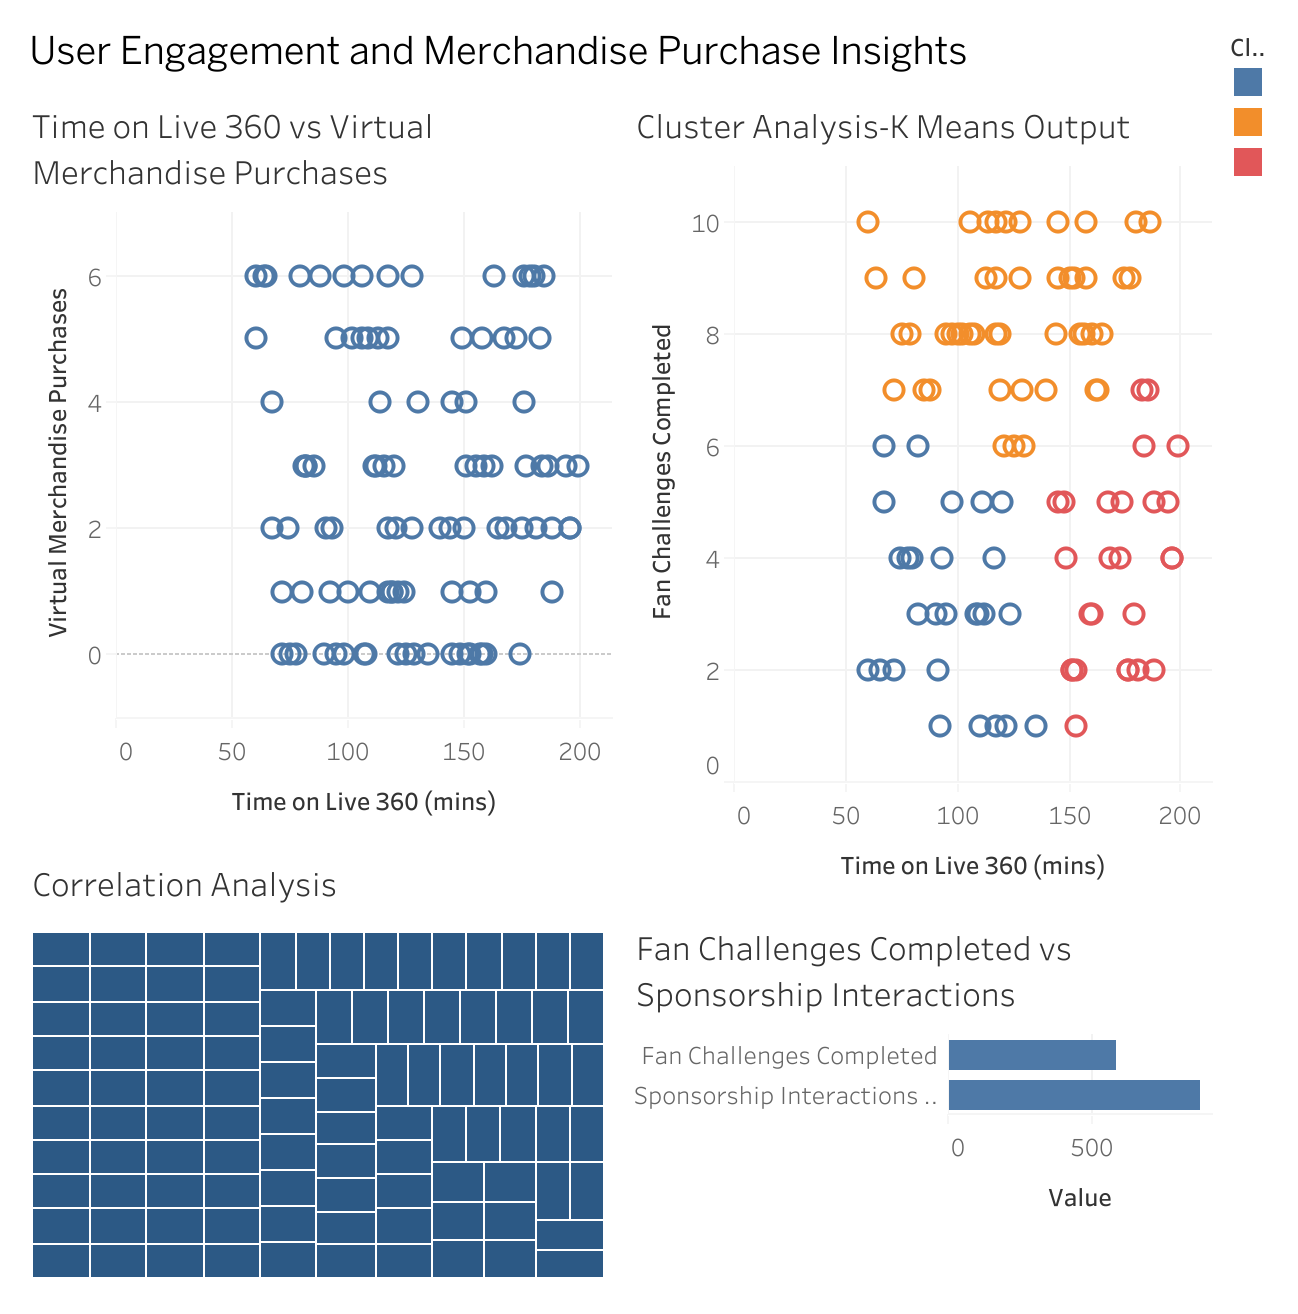

The dashboard page shown, as its layout file describes it:
{"tool":"tableau","page":{"name":"Dashboard 1","canvas":[650,860],"ordinal":0},"visuals":[{"type":"title","box":[8,8.9,602,35.8]},{"type":"legend","title":"Sheet 7","param":"[federated.1p514ne1qqbiia19ggqvb0pvr9s5].[none:AdhocCluster:1:ok]","box":[610,8.9,32,842.1]},{"type":"worksheet","title":"Sheet 4","mark":"Automatic","rows":["Virtual Merchandise Purchases"],"cols":["Time on Live 360 (mins)"],"box":[8,44.7,302,501.7]},{"type":"worksheet","title":"Sheet 7","mark":"Automatic","rows":["Fan Challenges Completed"],"cols":["Time on Live 360 (mins)"],"box":[310,44.7,300,544.6]},{"type":"worksheet","title":"Sheet 5","mark":"Automatic","box":[8,546.4,302,304.7]},{"type":"worksheet","title":"Sheet 3","mark":"Automatic","box":[310,589.4,300,261.7]}]}

Visuals, with their boxes on the page's 650x860 design canvas (x1, y1, x2, y2). These are canvas units, not pixel positions in the 1298x1314 screenshot, which may show the page scaled, cropped or inside an application window:
title: region(8, 9, 610, 45)
"Sheet 7" legend: region(610, 9, 642, 851)
"Sheet 4" worksheet: region(8, 45, 310, 546)
"Sheet 7" worksheet: region(310, 45, 610, 589)
"Sheet 5" worksheet: region(8, 546, 310, 851)
"Sheet 3" worksheet: region(310, 589, 610, 851)
